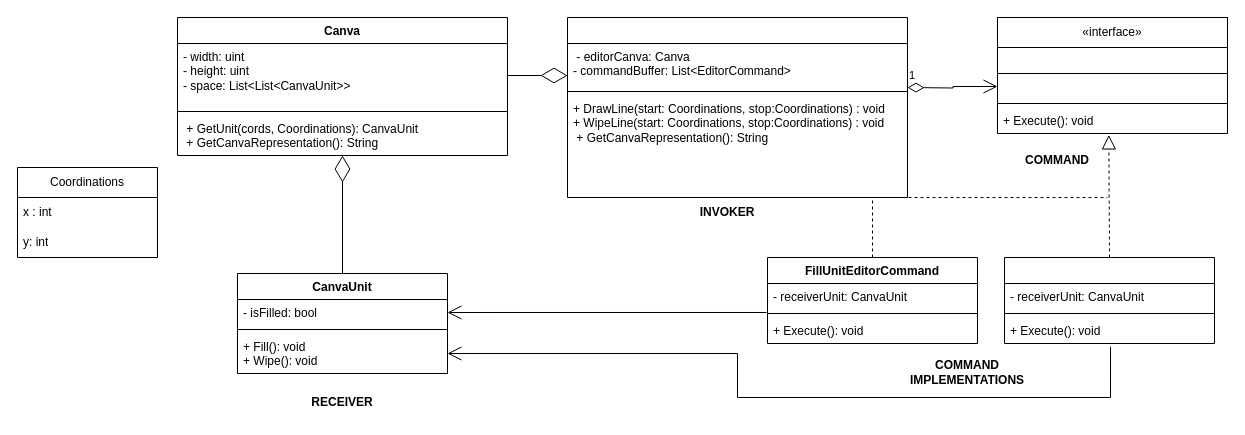
Some shapes in this 1245 by 435 pixel diagram are drawn without their labels. The shapes that lost their labels are listed below. From the top down, each one's box as (x1, y1, x2, y2) in pixels, then its label:
(566, 16, 908, 198): EditorMenu
(996, 46, 1228, 134): EditorCommand
(1004, 256, 1214, 344): WipeUnitEditorCommand
